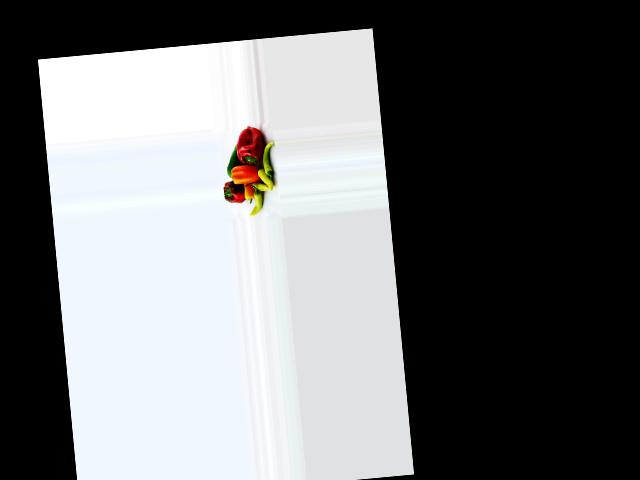bell_pepper: (261, 139, 276, 181)
